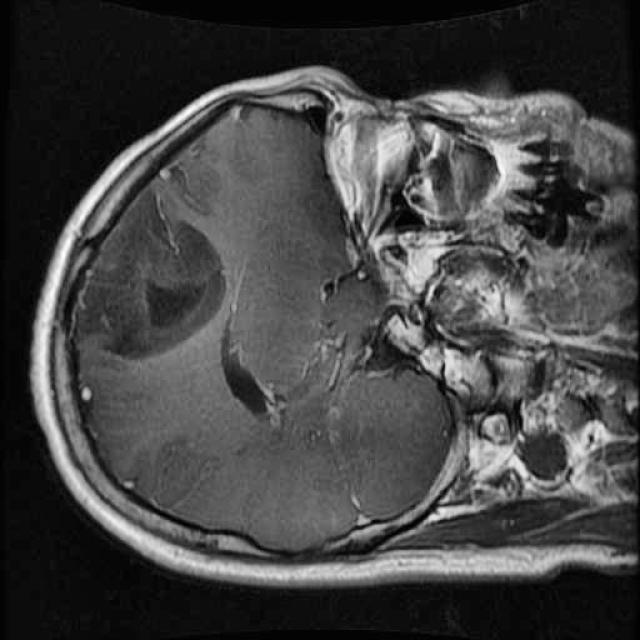Tumor: (70, 167, 241, 375)
